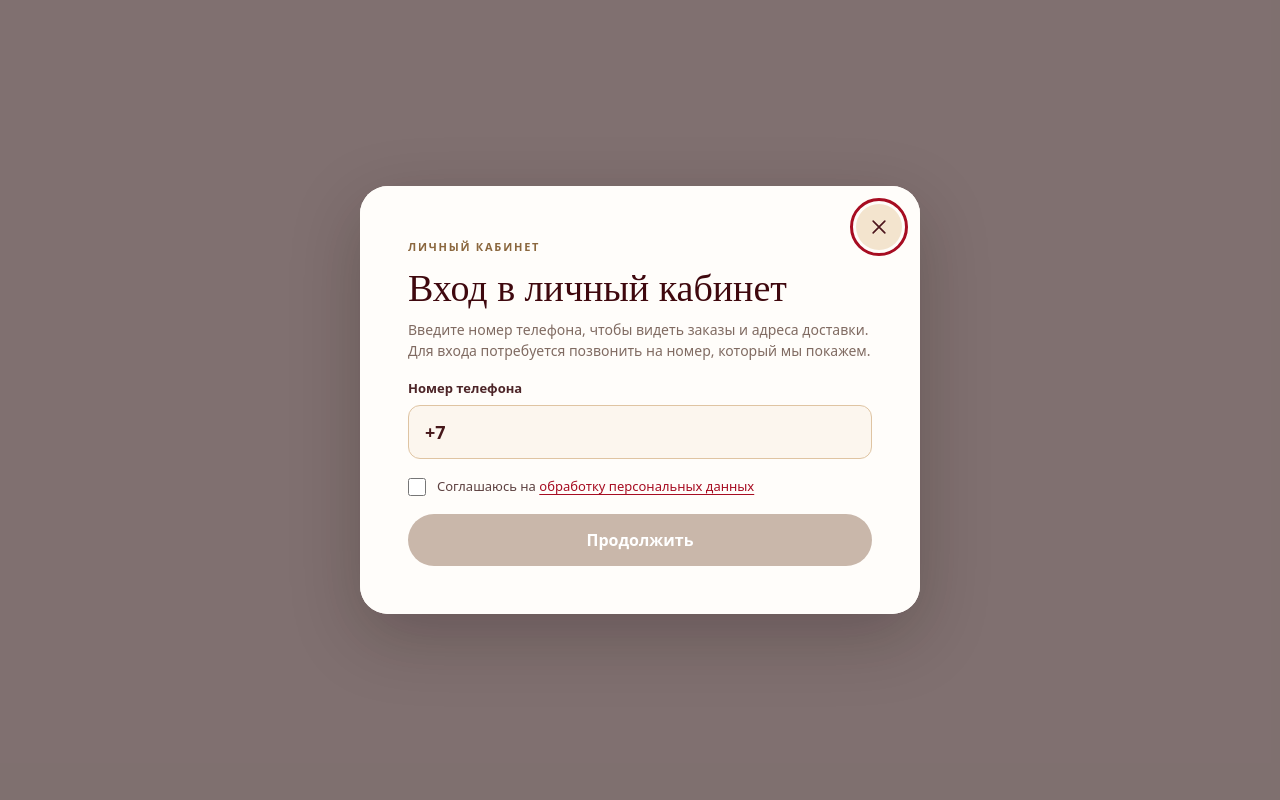
Test case: provider expiry stops status checks even when the window is refocused
The width and height of the screenshot is (1280, 800).
Click the checkbox: (417, 487) [408,478,426,496]
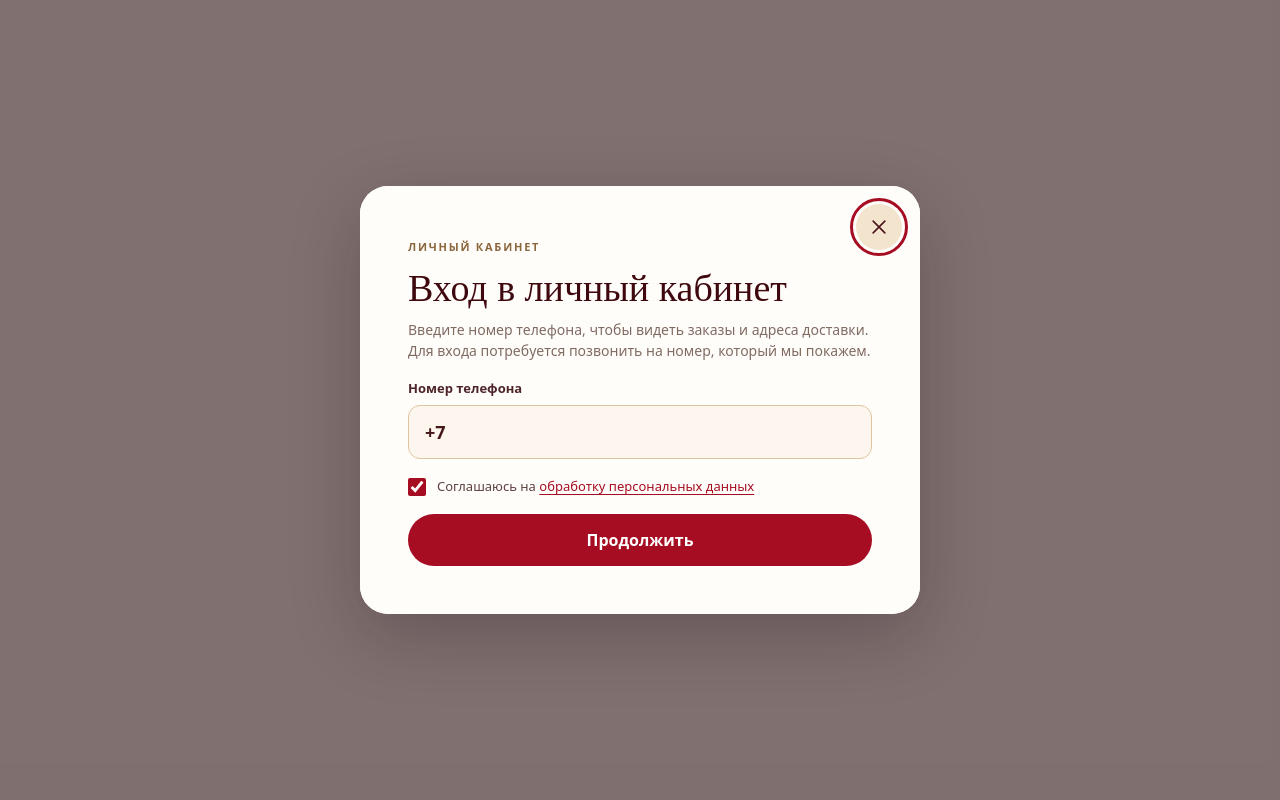
Replace the text in the field labelled "Номер телефона" with "9991234567": (640, 432) [408,405,872,459]
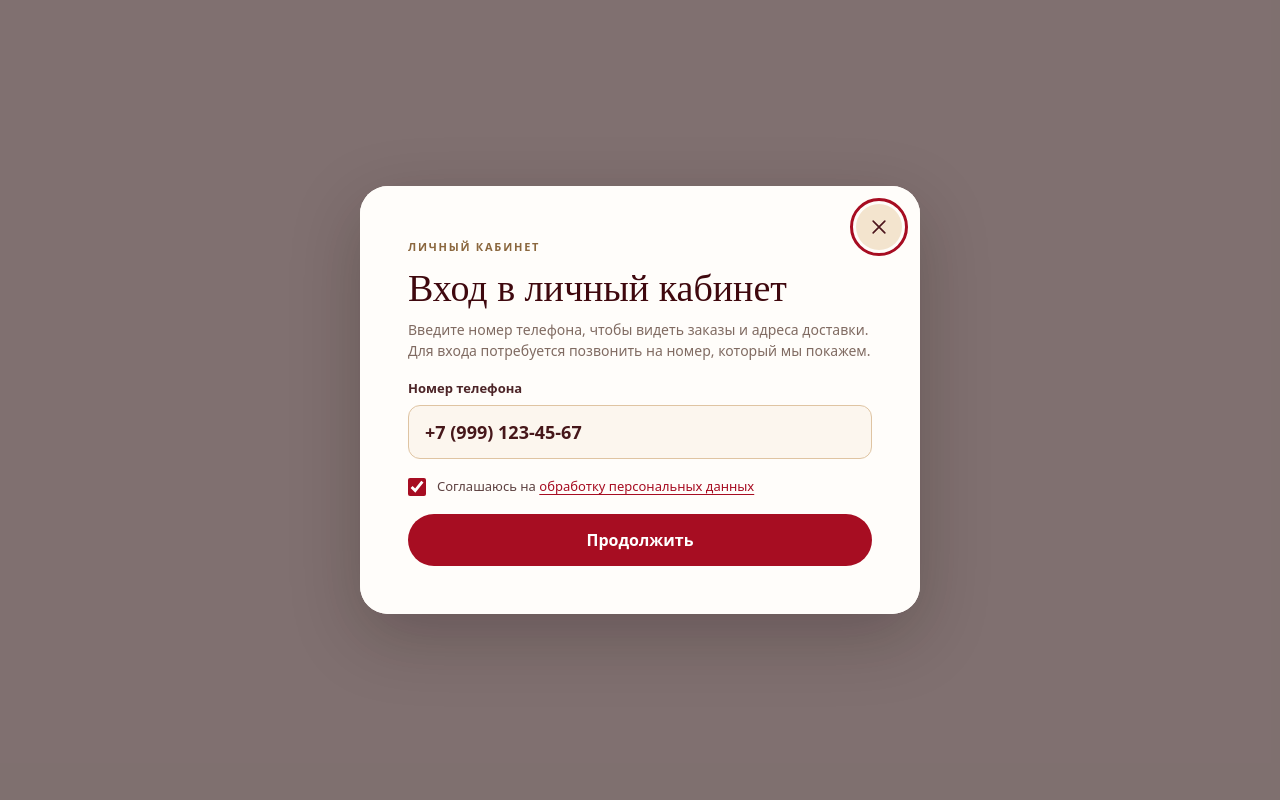
Click the button "Продолжить": (640, 540) [408,514,872,566]
Wait 10000 ms
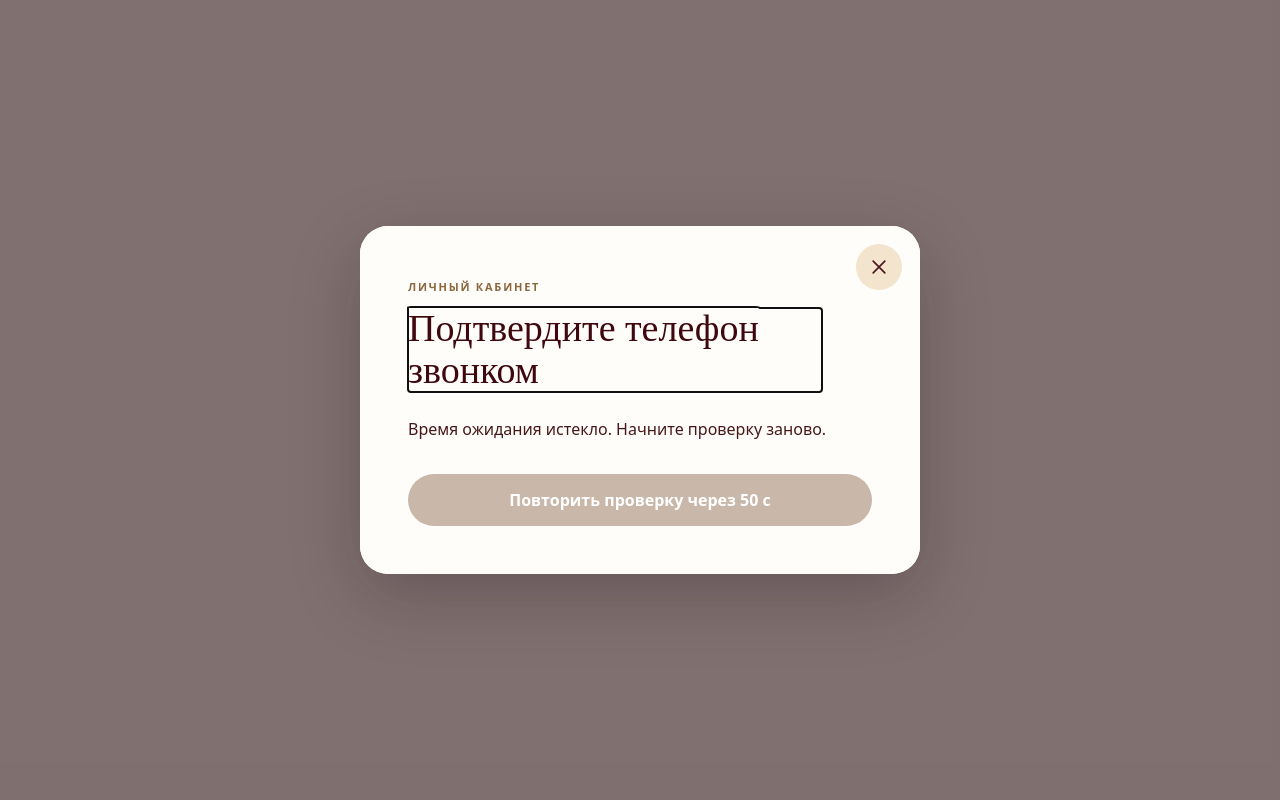
expect the text "Время ожидания истекло. Начните проверку заново." is shown: met, box [408,418,872,440]
